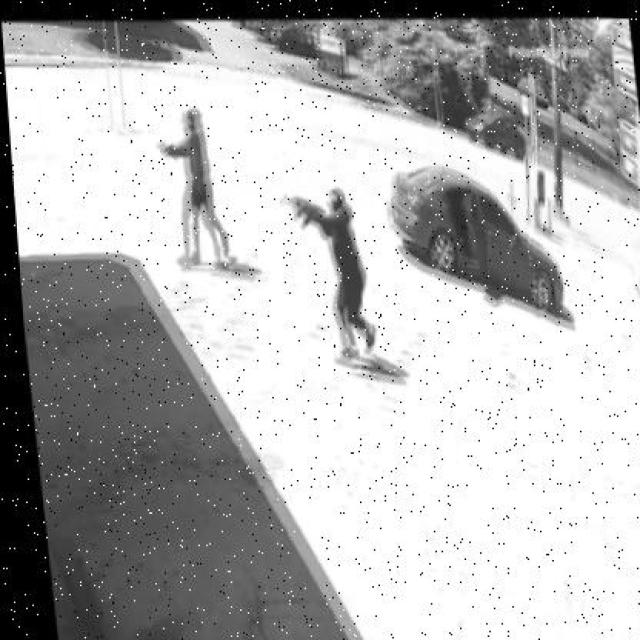weapon: (282, 195, 326, 228), (156, 142, 176, 158)
